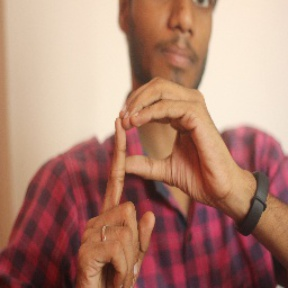P: (73, 76, 225, 282)
